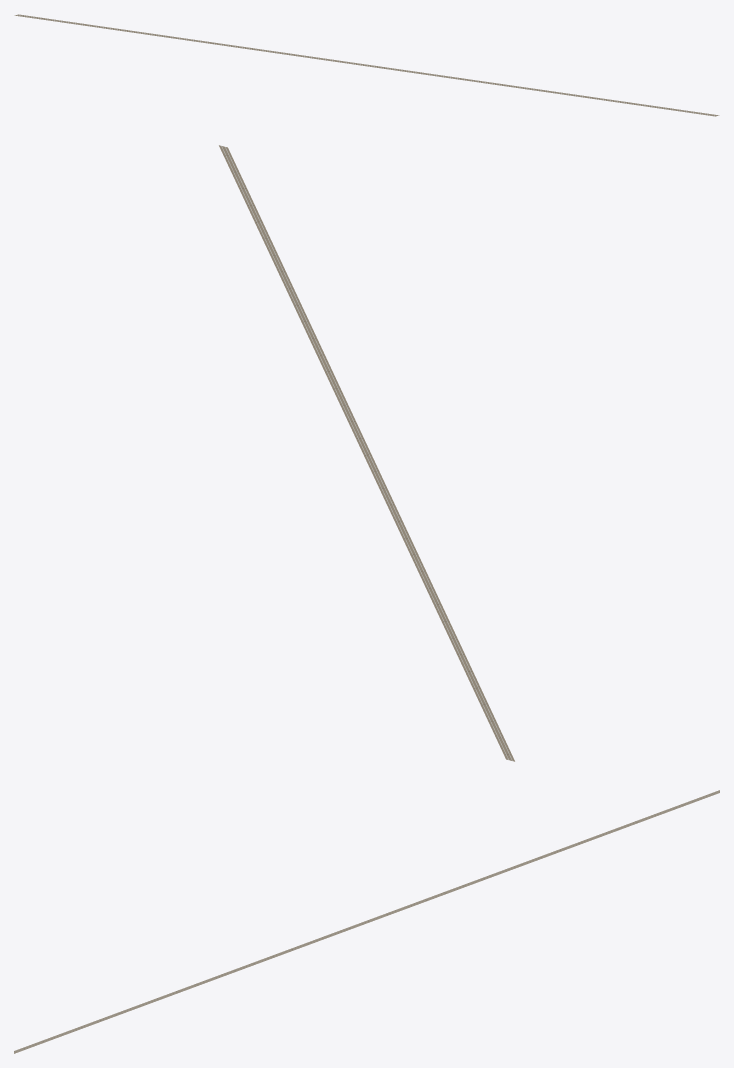
3 views of the same model, one above another, from view 1: azimuth 30°, elevation 25°; view 2: azimuth 150°, elevation 25°; view 3: azimuth 270°, elevation 25° (orthographic). The views are drawn at different scales.
Visible parts, largest first — view 1: rail; view 2: rail; view 3: rail.
Boxes of the visible parts, x1,y1,x2,y2 form: rail: (14,14,719,116); rail: (219,145,514,761); rail: (14,790,719,1053).
Size of the model in its own units: 442 by 0.04 by 500.
